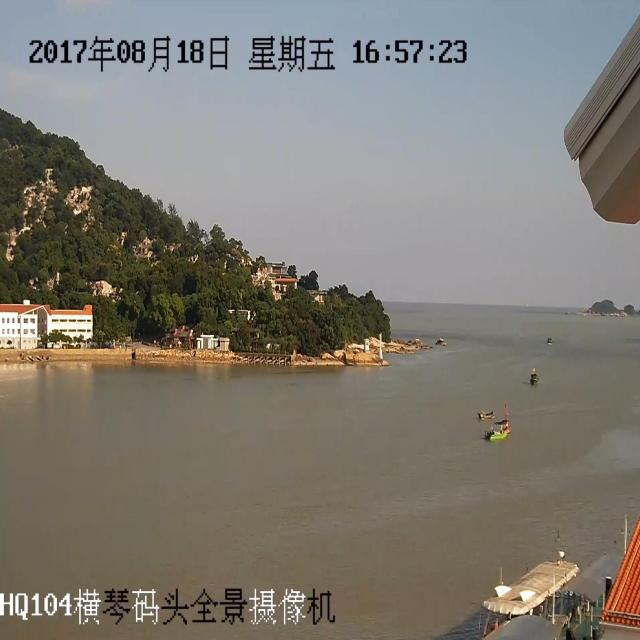fishing boat: (480, 407, 514, 444), (518, 368, 542, 389), (537, 324, 556, 348)
reef: (566, 281, 639, 326)
